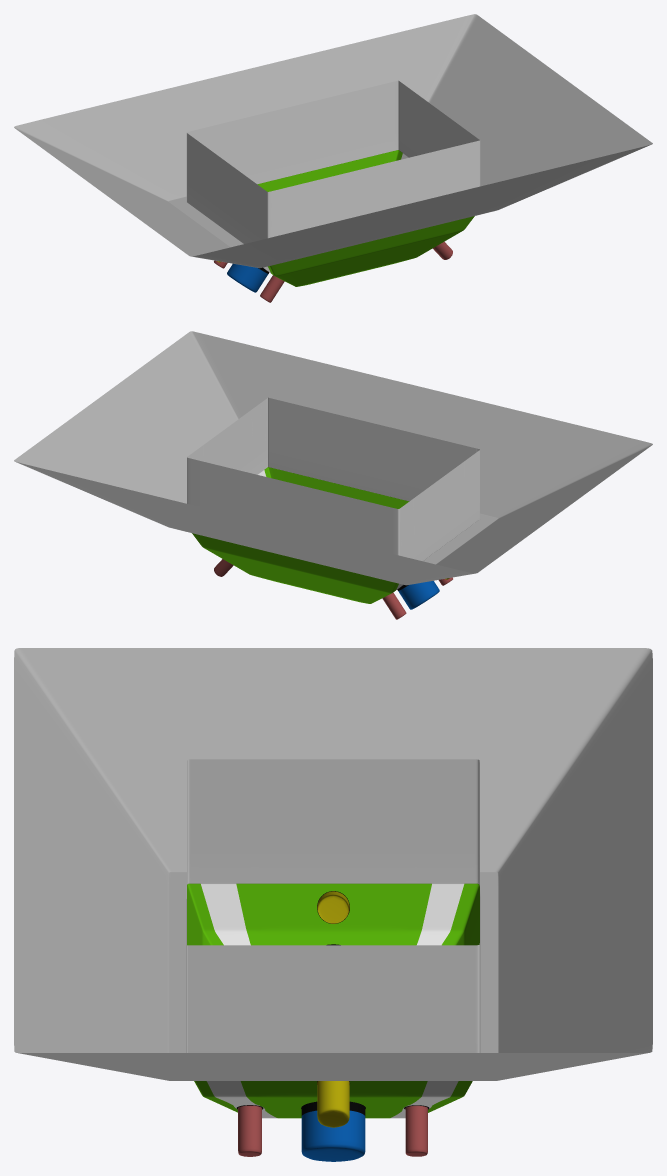
File: FINAL_STAGE.fbx
3 renders of one model, top to bottom at view 1: azimuth 30°, elevation 25°; view 2: azimuth 150°, elevation 25°; view 3: azimuth 270°, elevation 25°, orthographic. The views are drawn at different scales.
Visible parts, largest first — view 1: pPlane1; view 2: pPlane1; view 3: pPlane1.
Part boxes in pixels (x1,y1,x2,y2): pPlane1: (14,14,652,302); pPlane1: (14,331,652,619); pPlane1: (14,648,652,1161).
Bounding box in the file's own units: 250 × 69.66 × 166.
